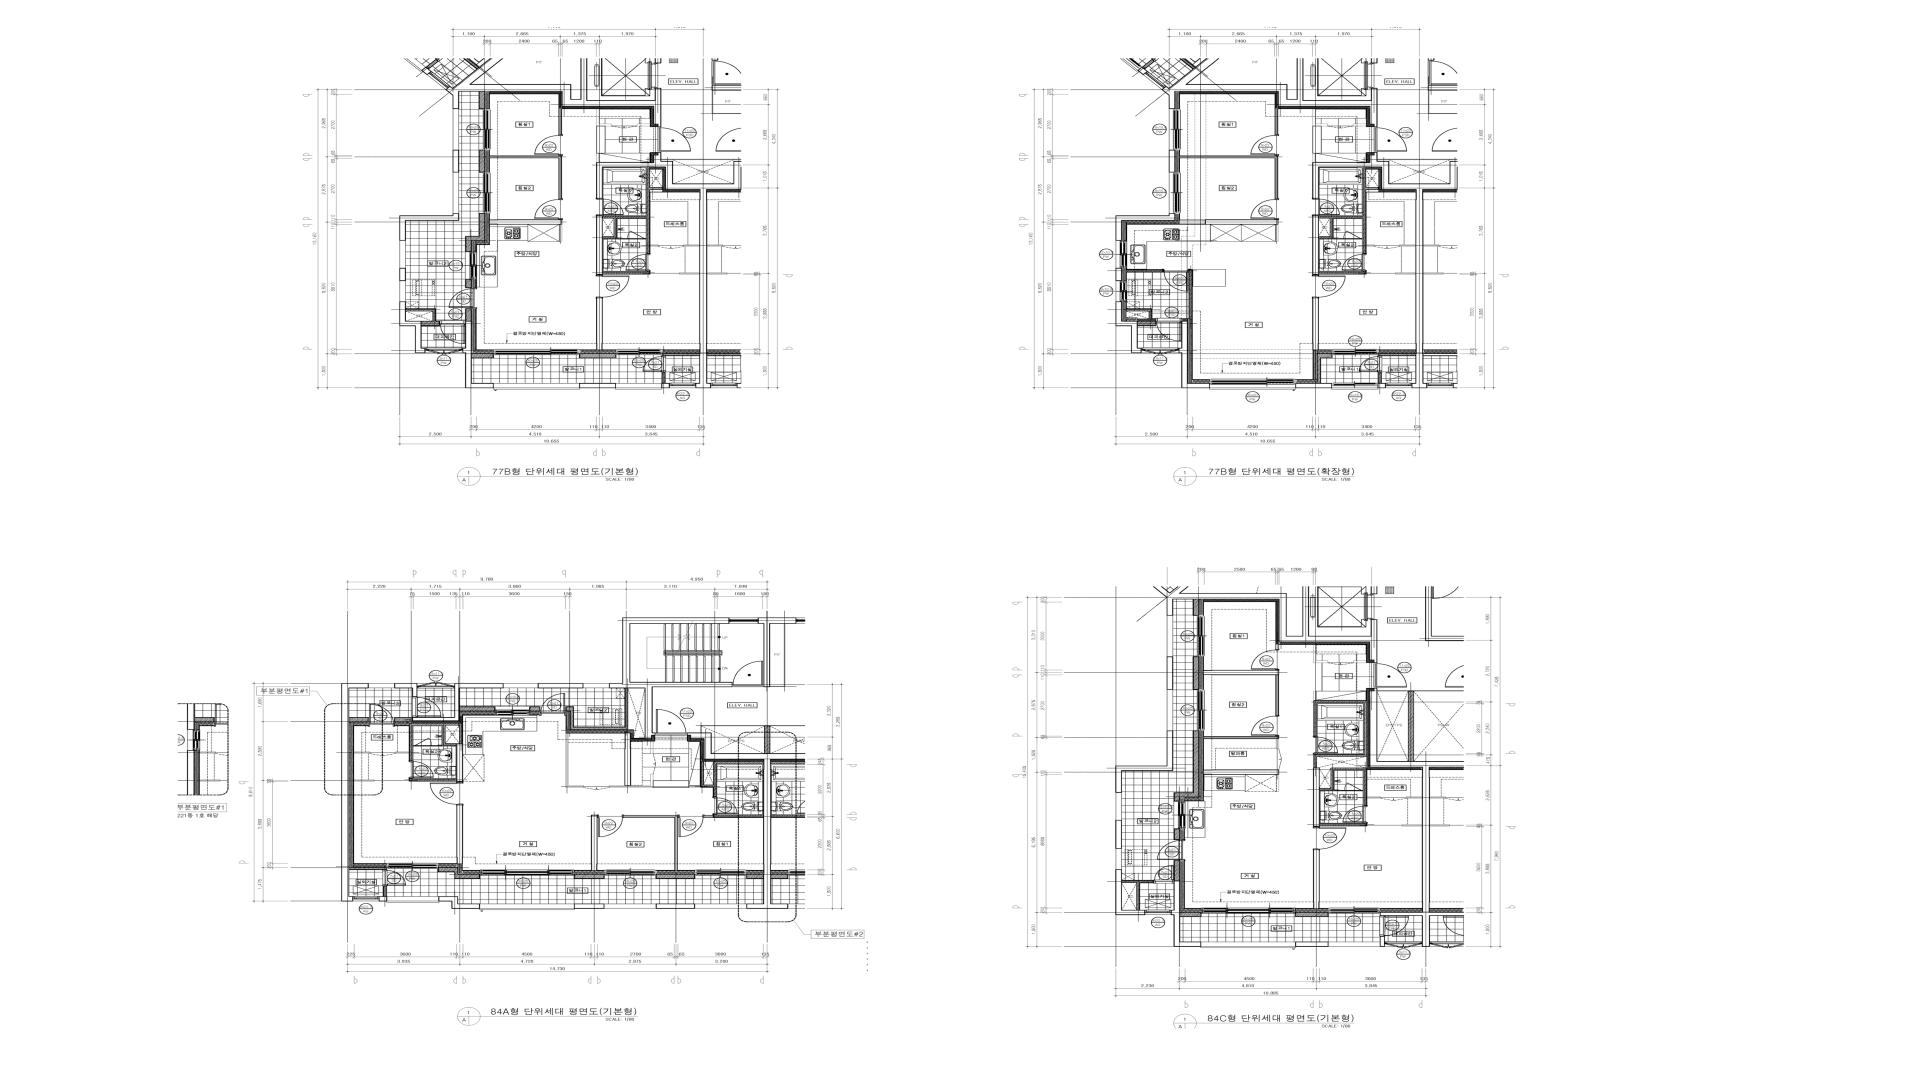door: (655, 708, 687, 736), (732, 661, 764, 687), (658, 127, 691, 152), (1374, 127, 1407, 152), (1312, 274, 1346, 298), (596, 274, 629, 298), (1374, 663, 1407, 687), (430, 782, 463, 804), (1313, 827, 1346, 849), (411, 696, 442, 717), (1379, 915, 1410, 936), (534, 135, 563, 156), (448, 287, 477, 309), (1250, 135, 1279, 156), (369, 703, 394, 727), (541, 692, 566, 716), (1156, 318, 1182, 342), (440, 320, 465, 344), (597, 815, 624, 837), (678, 815, 704, 837), (1163, 269, 1189, 291), (1251, 649, 1279, 670), (534, 199, 563, 219), (1250, 199, 1279, 219), (1158, 840, 1185, 860), (1251, 716, 1279, 736), (596, 198, 624, 215), (1312, 198, 1340, 215), (409, 761, 434, 778), (712, 796, 737, 814), (625, 253, 650, 270), (1342, 253, 1367, 270), (1313, 736, 1338, 753), (1342, 806, 1367, 823), (382, 870, 406, 886), (1358, 356, 1382, 372), (642, 356, 666, 372), (1154, 865, 1174, 884), (417, 682, 455, 688), (1142, 348, 1179, 355), (426, 348, 463, 355), (1385, 942, 1422, 948), (415, 737, 433, 746), (1345, 782, 1362, 791), (1344, 231, 1361, 239), (628, 231, 644, 239), (369, 752, 396, 756), (1374, 245, 1400, 249), (658, 245, 684, 249), (1381, 796, 1407, 800), (584, 786, 609, 790), (1278, 749, 1282, 769), (612, 125, 637, 128), (1328, 125, 1353, 128), (1328, 662, 1353, 665)
wall: (1312, 152, 1458, 388), (596, 152, 741, 388), (1370, 687, 1464, 947), (687, 732, 806, 909), (1153, 585, 1378, 663), (609, 617, 732, 738), (1162, 58, 1378, 127), (446, 58, 662, 127), (342, 683, 368, 902), (1319, 167, 1379, 253), (603, 167, 663, 253), (1179, 156, 1278, 199), (1313, 700, 1367, 767), (1116, 731, 1174, 793), (1203, 670, 1279, 716), (411, 683, 504, 721), (489, 156, 562, 199), (704, 765, 764, 818), (624, 815, 678, 870), (758, 617, 796, 687), (396, 723, 463, 761), (566, 688, 628, 729), (609, 732, 653, 787), (700, 761, 764, 796), (1179, 320, 1211, 388), (1425, 585, 1464, 641), (463, 320, 493, 388), (1171, 881, 1201, 947), (1174, 731, 1200, 802), (1320, 767, 1367, 806), (1203, 769, 1279, 791), (409, 746, 456, 782), (1320, 791, 1367, 827), (1116, 214, 1175, 240), (400, 214, 459, 240), (1116, 302, 1142, 353), (400, 302, 426, 353), (1116, 869, 1145, 915), (1203, 736, 1279, 749), (566, 733, 584, 787), (1122, 880, 1154, 910), (770, 624, 785, 687), (465, 212, 485, 252), (700, 725, 806, 732), (406, 309, 440, 326), (1179, 219, 1279, 224), (439, 897, 480, 909), (1317, 353, 1333, 382), (438, 868, 480, 878), (456, 804, 463, 864), (1313, 767, 1320, 827), (1313, 849, 1320, 909), (1312, 215, 1319, 274), (596, 215, 603, 274), (489, 219, 562, 224), (1408, 691, 1414, 761), (591, 815, 597, 870), (596, 298, 603, 351), (1312, 298, 1319, 351), (394, 683, 417, 696), (1126, 309, 1153, 319), (596, 108, 612, 125), (1313, 645, 1328, 663), (456, 744, 463, 782), (1313, 108, 1328, 125), (538, 683, 583, 688), (1193, 657, 1200, 690), (1167, 657, 1174, 690), (655, 903, 695, 909), (1189, 269, 1193, 319), (579, 353, 616, 359), (1296, 382, 1332, 388), (1319, 270, 1366, 274), (580, 382, 616, 388), (603, 270, 650, 274), (460, 705, 496, 711), (1116, 820, 1122, 848), (1295, 911, 1329, 916), (1295, 942, 1328, 947), (574, 874, 605, 880), (655, 874, 695, 878), (1168, 149, 1175, 173), (479, 149, 485, 173), (575, 903, 604, 909), (349, 866, 386, 870), (1126, 269, 1163, 273), (765, 727, 770, 753), (1174, 860, 1180, 881), (452, 150, 459, 171), (1378, 690, 1464, 691), (479, 91, 485, 108), (1193, 599, 1200, 616), (472, 353, 493, 359), (349, 717, 369, 723), (1378, 158, 1457, 160), (662, 158, 741, 160), (1378, 353, 1416, 356), (662, 353, 699, 356), (1138, 320, 1156, 326), (746, 874, 764, 880), (1116, 268, 1122, 281), (400, 268, 406, 281), (1180, 913, 1201, 916), (1174, 828, 1180, 840), (465, 309, 472, 320), (394, 717, 413, 721), (559, 108, 562, 135), (1275, 108, 1278, 135), (529, 705, 541, 711), (353, 779, 375, 782), (1379, 936, 1385, 947), (1402, 824, 1422, 827), (465, 280, 472, 287), (378, 897, 386, 902), (382, 886, 386, 897), (1400, 244, 1416, 247), (1378, 372, 1382, 382), (1378, 382, 1386, 388), (662, 382, 670, 388), (662, 372, 666, 382), (683, 244, 699, 247), (1353, 661, 1366, 663), (650, 741, 653, 753), (1395, 273, 1416, 274), (679, 273, 699, 274), (560, 224, 562, 241), (353, 752, 369, 753), (650, 244, 658, 247), (1275, 644, 1279, 649), (1407, 796, 1422, 798), (1367, 796, 1381, 798), (1353, 124, 1366, 125), (637, 124, 650, 125)
window: (480, 903, 575, 910), (1201, 942, 1296, 948), (480, 869, 574, 876), (1201, 907, 1295, 914), (493, 382, 580, 389), (1211, 378, 1296, 385), (493, 349, 579, 355), (1209, 385, 1296, 389), (386, 862, 438, 869), (604, 869, 655, 876), (695, 869, 746, 876), (1329, 907, 1381, 914), (465, 252, 477, 280), (483, 108, 491, 149), (483, 173, 491, 214), (1197, 616, 1205, 657), (1197, 690, 1205, 731), (1174, 802, 1185, 828), (496, 705, 529, 715), (616, 382, 662, 389), (386, 897, 439, 902), (604, 903, 657, 909), (452, 108, 459, 150), (452, 171, 459, 214), (1174, 108, 1180, 150), (1167, 615, 1174, 657), (1328, 942, 1381, 947), (695, 903, 746, 909), (1174, 173, 1180, 214), (1167, 690, 1174, 731), (616, 349, 662, 355), (1333, 349, 1378, 355), (1120, 240, 1127, 268), (729, 617, 758, 624), (1332, 382, 1378, 386), (400, 240, 406, 268), (1116, 793, 1122, 820), (504, 683, 538, 688), (1120, 281, 1127, 302), (1170, 109, 1174, 150), (1170, 173, 1174, 214), (368, 683, 394, 688), (352, 895, 378, 901), (583, 683, 609, 688), (1386, 382, 1412, 388), (400, 281, 406, 302), (670, 382, 696, 388), (1116, 848, 1122, 869), (1145, 910, 1171, 915), (1332, 386, 1378, 389), (1116, 240, 1120, 268), (1116, 281, 1120, 302)
